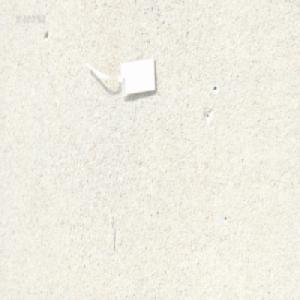LuggageTag: (85, 53, 157, 99)
